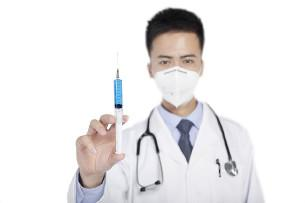OK: (151, 53, 204, 106)
